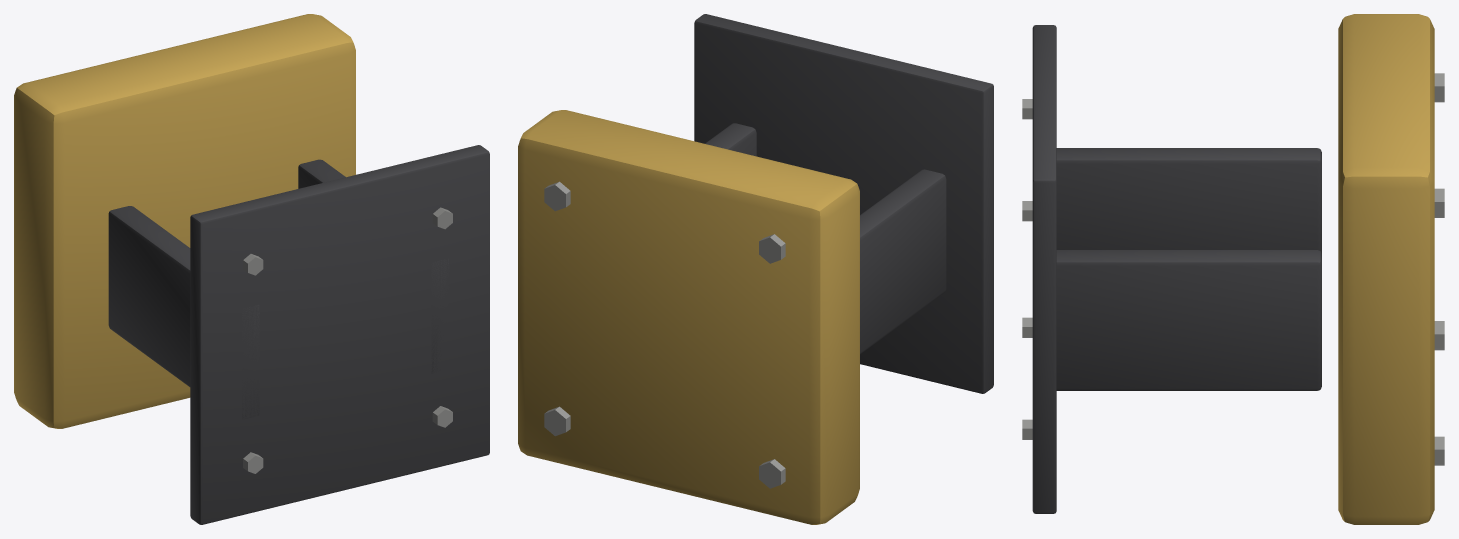
File: plate.glb
3 views of the same model, side by side, from view 1: azimuth 30°, elevation 25°; view 2: azimuth 150°, elevation 25°; view 3: azimuth 270°, elevation 25° (orthographic). The views are drawn at different scales.
Parts seen in each view (by area): view 1: Part; view 2: Part; view 3: Part.
Boxes of the visible parts, x1,y1,x2,y2 form: Part: [14, 14, 489, 524]; Part: [518, 14, 993, 524]; Part: [1022, 14, 1444, 524].
Bounding box in the file's own units: 0.49 × 0.49 × 0.5255.
